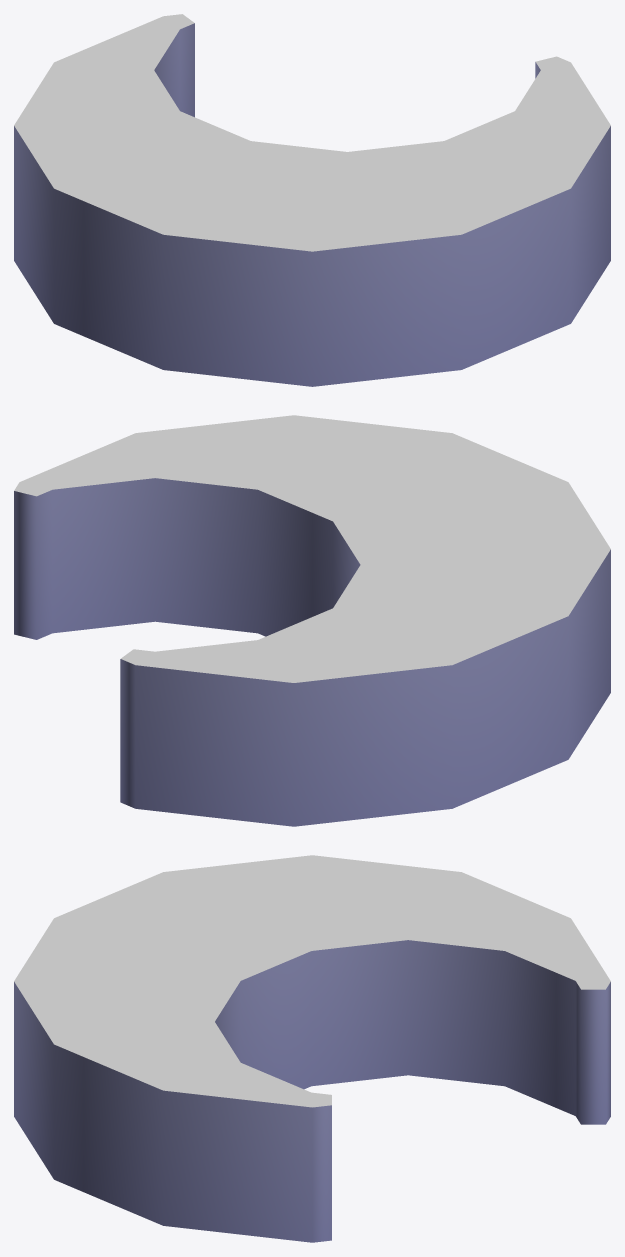
The model's file is shape-moon_0.glb.
The picture shows the model from 3 angles, top to bottom: view 1: azimuth 30°, elevation 25°; view 2: azimuth 150°, elevation 25°; view 3: azimuth 270°, elevation 25°; orthographic projection. The views are drawn at different scales.
Visible parts, largest first — view 1: shape-moon; view 2: shape-moon; view 3: shape-moon.
Boxes of the visible parts, x1,y1,x2,y2 form: shape-moon: (14,14,610,386); shape-moon: (14,415,610,826); shape-moon: (14,855,610,1242).
Bounding box in the file's own units: 0.25 × 0.0625 × 0.25.
